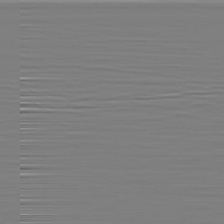cavities: (88, 81, 150, 129)
